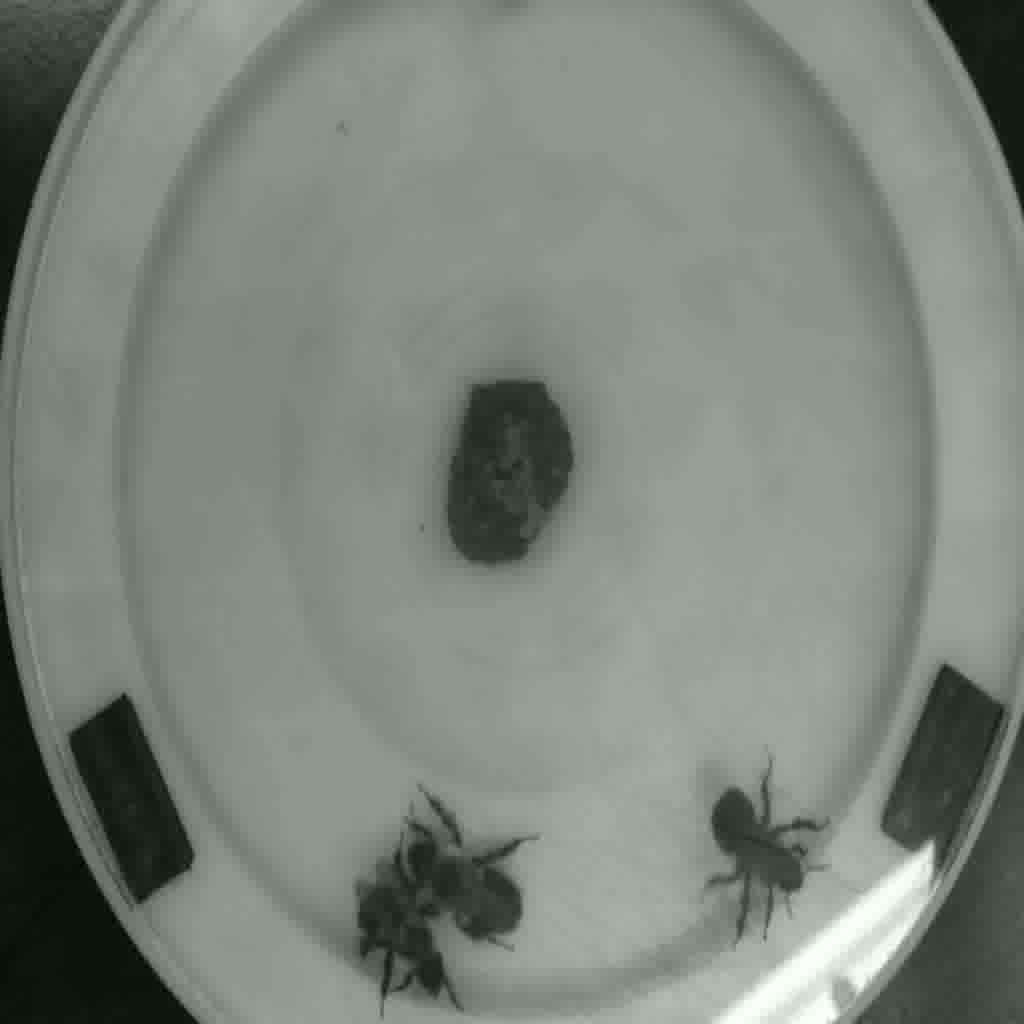bee: (684, 768, 838, 929), (404, 811, 539, 940), (346, 888, 456, 1011)
